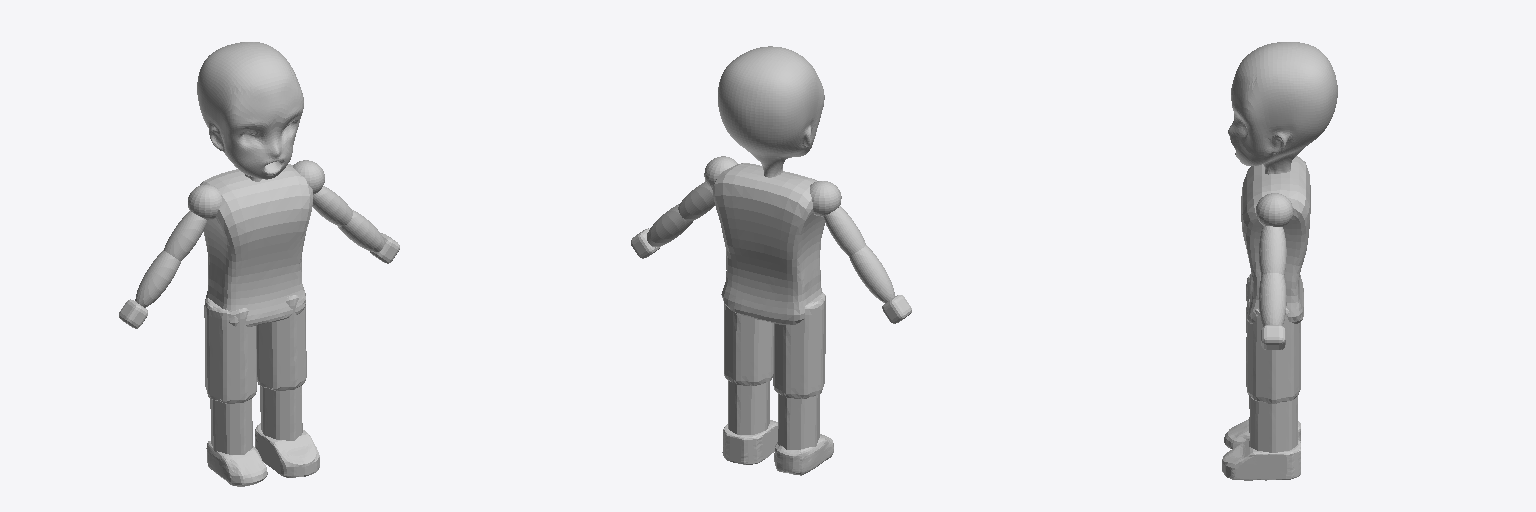
The model's file is cassExport.obj.
The picture shows the model from 3 angles: view 1: azimuth 30°, elevation 25°; view 2: azimuth 150°, elevation 25°; view 3: azimuth 270°, elevation 25°; orthographic projection.
Visible parts, largest first — view 1: pCube1, headbasecass:Group22688, pCube15, pCube14, pCube11, pCube12, pCube8, pCube13, group3 pSphere4, pSphere3 group3, group4 pSphere4, pSphere3 group4 (+3 smaller); view 2: pCube1, headbasecass:Group22688, pCube15, pCube14, pCube12, pCube8, pCube11, pCube13, group3 pSphere4, pSphere3 group3, group4 pSphere4, pSphere3 group4 (+3 smaller); view 3: headbasecass:Group22688, pCube1, pCube14, pCube8, pCube11, group4 pSphere4, pSphere3 group4, pSphere1, group4 pCube17, pCube13.
Boxes of the visible parts, x1=… form: pCube1: x1=200, y1=164, x2=312, y2=326; headbasecass:Group22688: x1=197, y1=42, x2=303, y2=181; pCube15: x1=204, y1=298, x2=256, y2=403; pCube14: x1=256, y1=287, x2=306, y2=390; pCube11: x1=255, y1=423, x2=319, y2=477; pCube12: x1=210, y1=399, x2=252, y2=454; pCube8: x1=260, y1=386, x2=302, y2=440; pCube13: x1=206, y1=441, x2=267, y2=486; group3 pSphere4: x1=135, y1=250, x2=180, y2=307; pSphere3 group3: x1=164, y1=211, x2=207, y2=260; group4 pSphere4: x1=338, y1=210, x2=384, y2=252; pSphere3 group4: x1=312, y1=186, x2=352, y2=226; pCube1: x1=712, y1=163, x2=824, y2=324; headbasecass:Group22688: x1=718, y1=46, x2=824, y2=177; pCube15: x1=773, y1=293, x2=825, y2=398; pCube14: x1=724, y1=303, x2=773, y2=385; pCube12: x1=778, y1=394, x2=819, y2=449; pCube8: x1=728, y1=381, x2=769, y2=434; pCube11: x1=722, y1=420, x2=777, y2=464; pCube13: x1=774, y1=434, x2=833, y2=475; group3 pSphere4: x1=849, y1=245, x2=894, y2=302; pSphere3 group3: x1=823, y1=206, x2=865, y2=256; group4 pSphere4: x1=647, y1=204, x2=692, y2=247; pSphere3 group4: x1=678, y1=181, x2=714, y2=220; headbasecass:Group22688: x1=1228, y1=42, x2=1337, y2=174; pCube1: x1=1241, y1=156, x2=1310, y2=323; pCube14: x1=1246, y1=299, x2=1300, y2=403; pCube8: x1=1249, y1=395, x2=1297, y2=452; pCube11: x1=1222, y1=438, x2=1300, y2=480; group4 pSphere4: x1=1259, y1=273, x2=1286, y2=326; pSphere3 group4: x1=1259, y1=226, x2=1286, y2=275; pSphere1: x1=1256, y1=193, x2=1293, y2=226; group4 pCube17: x1=1261, y1=325, x2=1285, y2=349; pCube13: x1=1224, y1=419, x2=1300, y2=448.
Size of the model in its own units: 43.98 by 63.32 by 16.1.